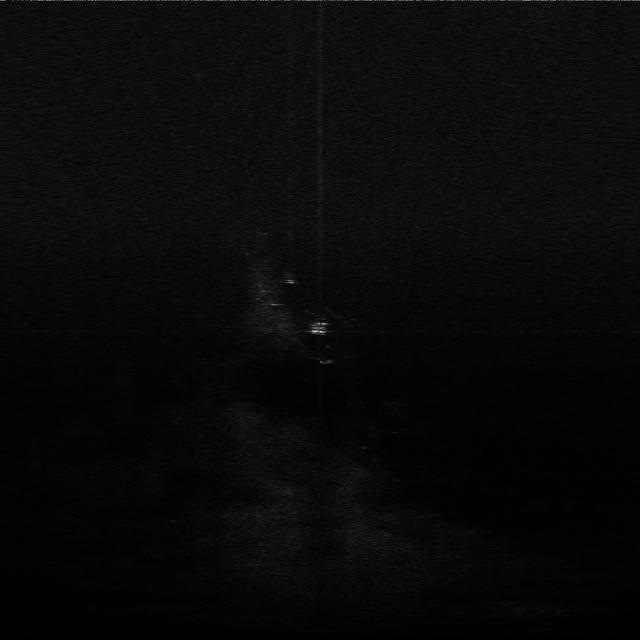rov: (307, 320, 329, 337)
